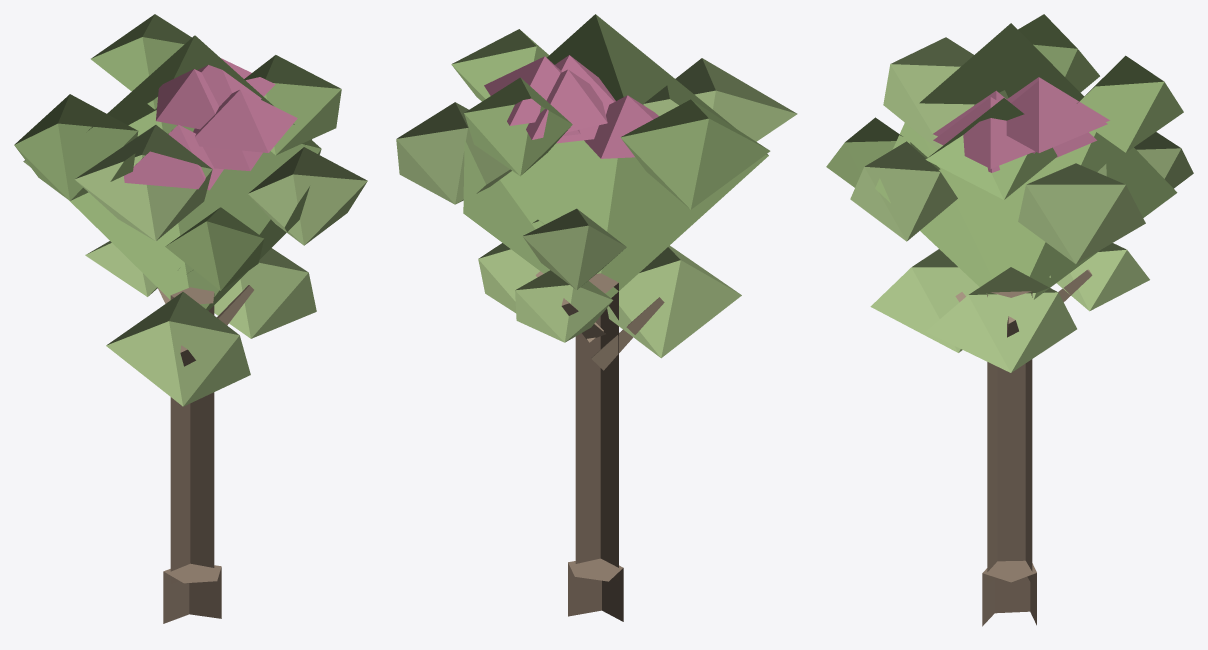
File: tree.temp.ginkgo__bloom.glb
The picture shows the model from 3 angles, left to right: view 1: azimuth 30°, elevation 25°; view 2: azimuth 150°, elevation 25°; view 3: azimuth 270°, elevation 25°; orthographic projection. The views are drawn at different scales.
Visible parts, largest first — view 1: tree.temp.ginkgo__bloom; view 2: tree.temp.ginkgo__bloom; view 3: tree.temp.ginkgo__bloom.
Boxes of the visible parts, box(x1,y1,x2,y2) form: tree.temp.ginkgo__bloom: box(14, 14, 367, 623); tree.temp.ginkgo__bloom: box(396, 14, 797, 621); tree.temp.ginkgo__bloom: box(826, 14, 1193, 626).
Bounding box in the file's own units: 8.25 × 14.35 × 7.97.
